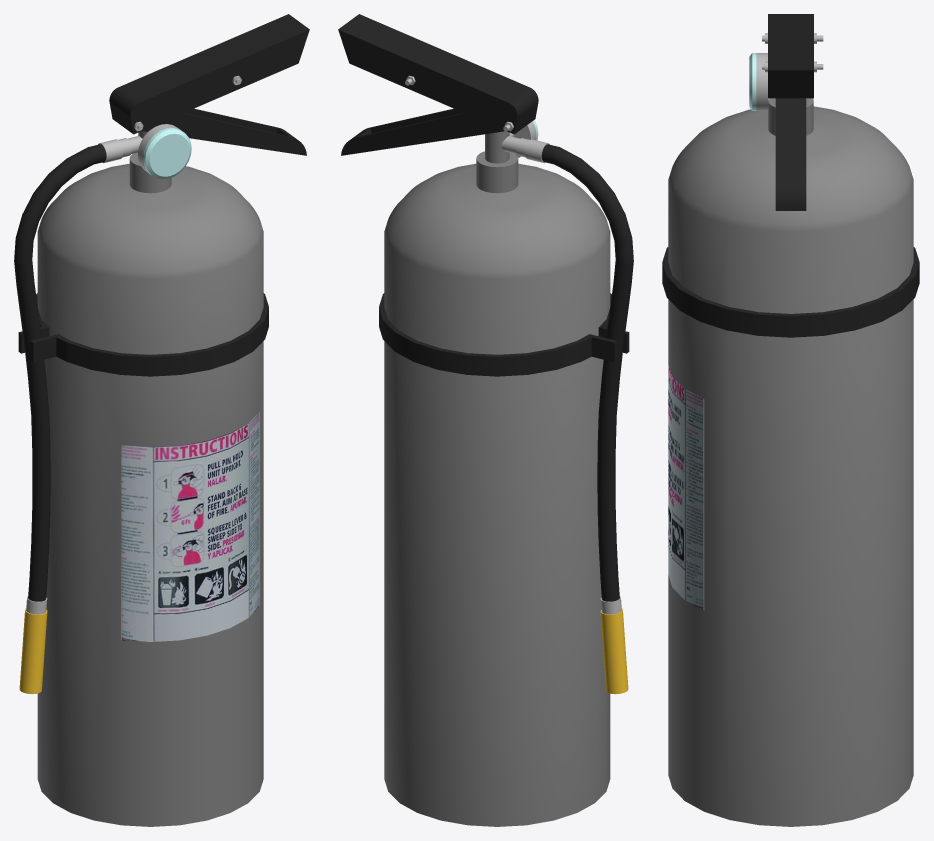
The picture shows the model from 3 angles, left to right: view 1: azimuth 30°, elevation 25°; view 2: azimuth 150°, elevation 25°; view 3: azimuth 270°, elevation 25°; orthographic projection. The views are drawn at different scales.
Visible parts, largest first — view 1: FP01; view 2: FP01; view 3: FP01.
Boxes of the visible parts, left/top/right/bottom form: FP01: left=14, top=14, right=309, bottom=826; FP01: left=338, top=14, right=633, bottom=826; FP01: left=662, top=14, right=919, bottom=826.
Bounding box in the file's own units: 194 × 470 × 140.
8 materials, 1 textured.
